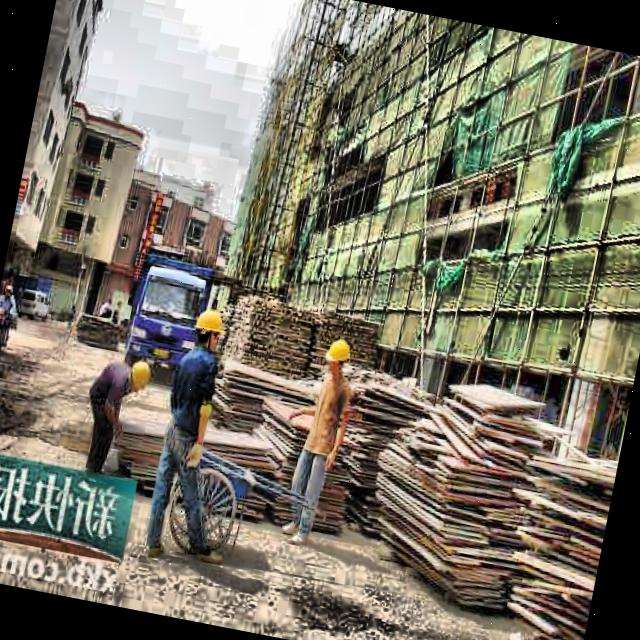helmet: (190, 302, 232, 351), (320, 337, 356, 381), (122, 354, 158, 398)
